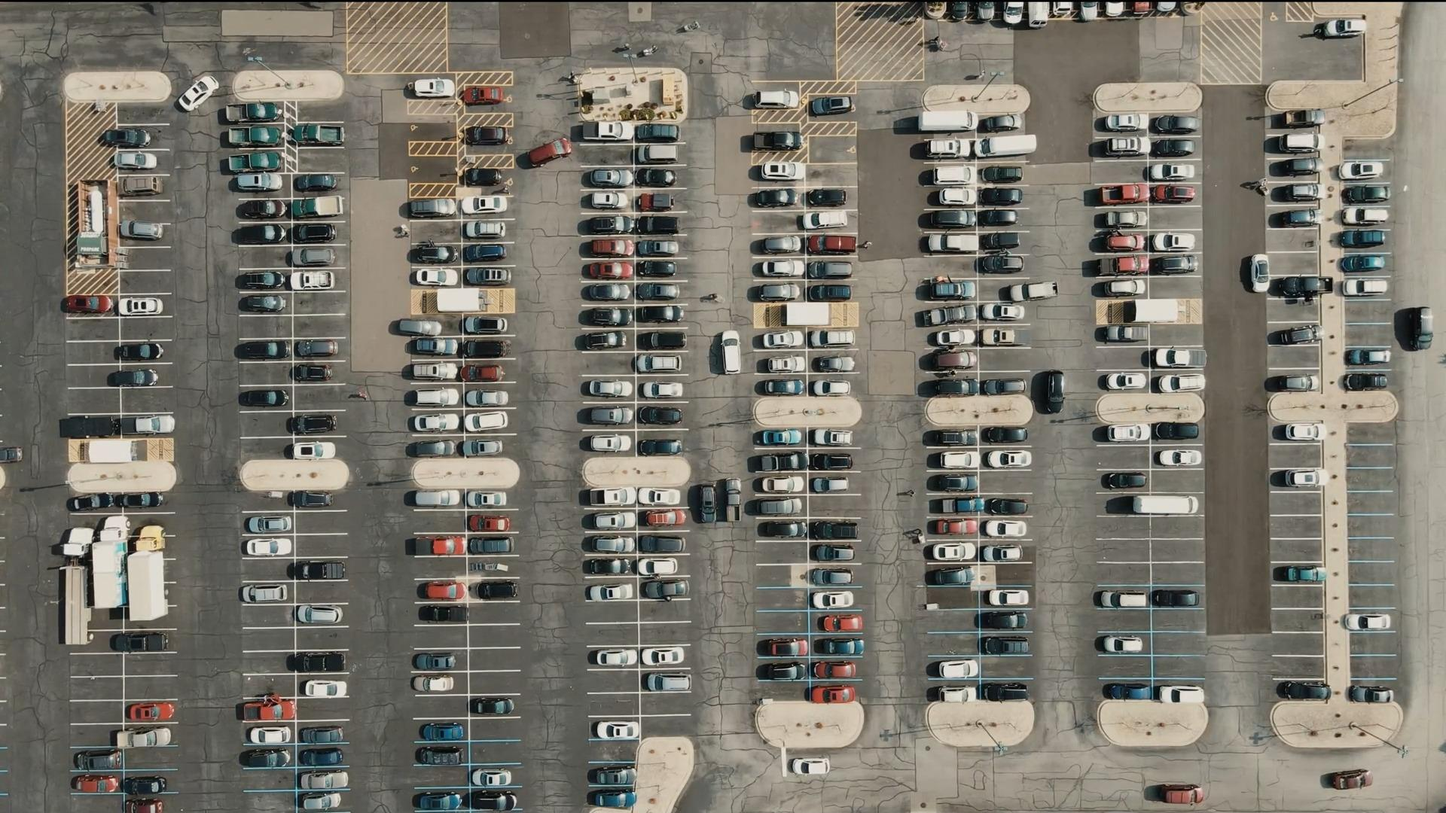occupied: (574, 277, 643, 306), (177, 74, 220, 112), (1397, 307, 1434, 350), (977, 135, 1036, 158), (921, 110, 977, 133), (527, 138, 571, 167), (243, 698, 295, 722), (60, 416, 114, 439), (1131, 496, 1196, 515), (1040, 369, 1066, 415), (1279, 276, 1332, 298), (227, 102, 282, 123), (228, 126, 283, 147), (226, 153, 280, 174), (1240, 254, 1269, 293), (716, 330, 741, 375), (293, 123, 344, 145), (291, 652, 344, 673), (111, 633, 169, 652), (1277, 681, 1331, 701), (293, 196, 342, 218), (62, 294, 114, 314), (75, 749, 122, 771), (1156, 348, 1207, 368), (120, 728, 171, 748), (415, 791, 466, 811), (60, 527, 95, 556), (1100, 183, 1148, 204), (127, 701, 175, 722), (1317, 18, 1367, 38), (1340, 159, 1387, 180), (103, 128, 152, 148), (583, 121, 632, 141), (242, 748, 291, 768), (295, 562, 346, 581), (1327, 769, 1373, 790), (239, 200, 287, 220), (981, 683, 1029, 703), (1276, 325, 1324, 345), (237, 341, 287, 360), (929, 234, 979, 253), (412, 244, 459, 264), (593, 720, 640, 740), (925, 138, 972, 158), (1101, 256, 1148, 276), (1160, 783, 1204, 804), (1013, 281, 1059, 301), (934, 659, 980, 679), (755, 131, 803, 150), (408, 198, 456, 217), (1151, 256, 1199, 275), (759, 662, 807, 681), (412, 77, 455, 98), (1276, 132, 1319, 153), (292, 223, 337, 243), (239, 272, 289, 290), (110, 369, 160, 387), (592, 766, 637, 786), (1103, 683, 1153, 701), (473, 791, 518, 811), (1343, 185, 1390, 204), (240, 584, 287, 603), (416, 746, 463, 765), (810, 234, 857, 253), (302, 770, 349, 789), (1158, 374, 1205, 393), (812, 257, 859, 276), (815, 281, 862, 300), (753, 238, 800, 257), (932, 328, 979, 347), (759, 354, 806, 373), (938, 434, 985, 453), (932, 457, 979, 476), (808, 323, 855, 342), (68, 492, 117, 510), (1104, 136, 1148, 156), (462, 437, 506, 457), (294, 173, 340, 192), (1154, 114, 1200, 133), (461, 196, 507, 215), (289, 441, 335, 460), (290, 414, 336, 433), (296, 605, 342, 624), (242, 224, 288, 243), (1104, 424, 1150, 443), (1342, 207, 1390, 225), (1341, 229, 1389, 247), (134, 525, 166, 552), (755, 89, 798, 109), (291, 271, 334, 291), (465, 412, 508, 432), (298, 791, 341, 811), (722, 478, 742, 521), (460, 86, 505, 105), (588, 168, 633, 187), (1160, 685, 1205, 704), (123, 775, 168, 794), (420, 723, 465, 742), (247, 726, 292, 745), (1343, 278, 1388, 297), (300, 748, 345, 767), (762, 638, 807, 657), (591, 790, 636, 809), (809, 685, 854, 704), (117, 343, 164, 361), (1150, 139, 1197, 157), (1341, 254, 1388, 272), (72, 775, 119, 793), (585, 584, 632, 602), (811, 358, 858, 376), (929, 307, 976, 325), (930, 374, 977, 392), (801, 378, 848, 396), (928, 471, 975, 489), (982, 113, 1024, 133), (810, 96, 852, 116), (121, 175, 163, 195), (636, 123, 680, 142), (120, 220, 164, 239), (463, 315, 507, 334), (295, 339, 339, 358), (303, 679, 347, 698), (586, 191, 630, 210), (1345, 372, 1389, 391), (414, 490, 463, 507), (1149, 163, 1195, 181), (1275, 158, 1321, 176), (1344, 348, 1390, 366), (241, 295, 287, 313), (245, 538, 291, 556), (933, 685, 979, 703), (636, 145, 679, 164), (1284, 109, 1327, 128), (1284, 469, 1327, 488), (132, 415, 175, 434), (641, 647, 684, 666), (1104, 232, 1147, 251), (1098, 591, 1146, 608), (418, 605, 466, 622), (463, 220, 508, 238), (1277, 183, 1322, 201), (804, 211, 849, 229), (471, 697, 516, 715), (300, 727, 345, 745), (1100, 635, 1145, 653), (414, 268, 459, 286), (1152, 185, 1197, 203), (646, 673, 691, 691), (1102, 372, 1147, 390), (1102, 472, 1147, 490), (98, 516, 130, 541), (240, 390, 287, 407), (414, 653, 458, 671), (1346, 613, 1392, 630), (245, 516, 291, 533), (1153, 590, 1199, 607), (1277, 209, 1323, 226), (1284, 423, 1325, 442), (471, 768, 512, 787), (423, 581, 464, 600), (120, 298, 163, 316), (1105, 113, 1148, 131), (760, 162, 803, 180), (1349, 685, 1392, 703), (464, 244, 507, 262), (1153, 233, 1196, 251), (987, 589, 1030, 607), (476, 582, 519, 600), (1276, 566, 1324, 582), (1102, 326, 1147, 343), (592, 649, 637, 666), (790, 757, 830, 776), (116, 151, 158, 169), (467, 127, 509, 145), (293, 247, 335, 265), (1101, 279, 1143, 297), (398, 319, 442, 336), (289, 491, 333, 508), (465, 390, 509, 407), (1275, 375, 1319, 392), (698, 484, 717, 523), (293, 364, 334, 382), (469, 515, 510, 533), (640, 355, 683, 372), (1159, 449, 1202, 466), (466, 168, 506, 186), (412, 675, 454, 692), (469, 538, 513, 554), (120, 492, 164, 508), (1028, 1, 1050, 28), (125, 798, 163, 813), (1002, 1, 1024, 26), (950, 0, 970, 21), (1079, 0, 1099, 21), (925, 0, 947, 19), (975, 1, 995, 21), (1052, 1, 1075, 18), (1129, 1, 1153, 17), (1104, 0, 1125, 18), (0, 447, 22, 463), (1156, 0, 1177, 16)
